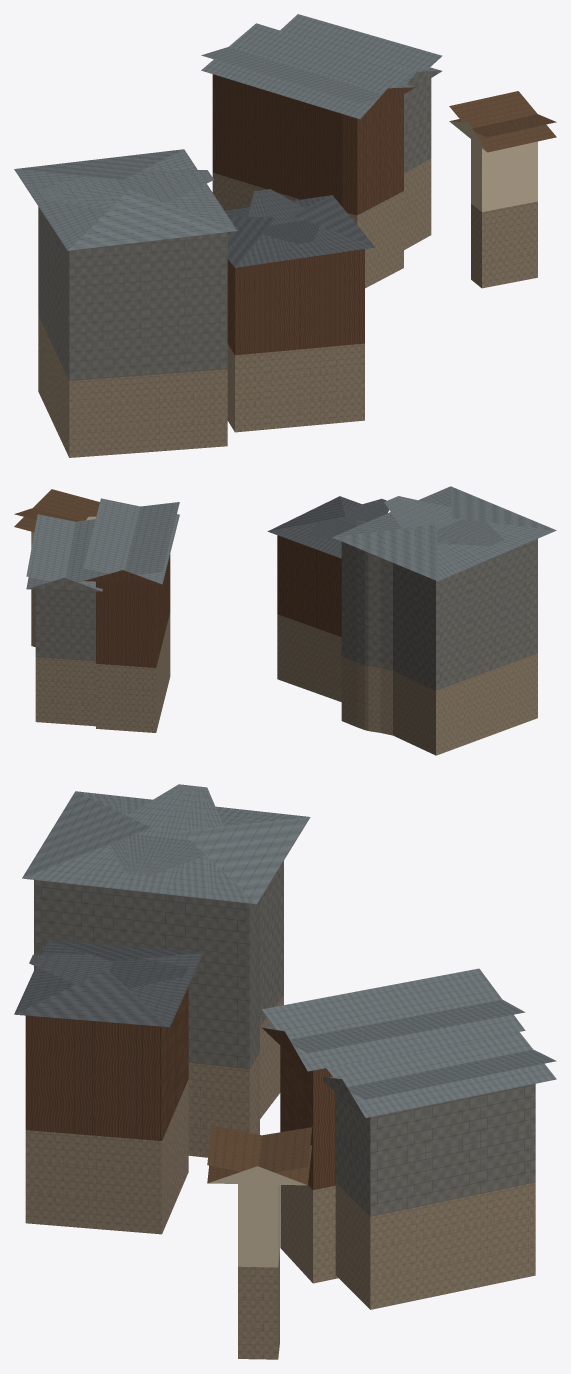
File: bld_c44_-39_414.gltf
The picture shows the model from 3 angles, top to bottom: view 1: azimuth 30°, elevation 25°; view 2: azimuth 150°, elevation 25°; view 3: azimuth 270°, elevation 25°; orthographic projection. The views are drawn at different scales.
Parts seen in each view (by area): view 1: bld_c44_-39_414; view 2: bld_c44_-39_414; view 3: bld_c44_-39_414.
Boxes of the visible parts, x1=… form: bld_c44_-39_414: x1=14, y1=14, x2=556, y2=457; bld_c44_-39_414: x1=14, y1=486, x2=556, y2=755; bld_c44_-39_414: x1=14, y1=784, x2=556, y2=1359.
Size of the model in its own units: 37.88 by 15.7 by 26.92.
Materials: 10 (10 with a texture image).
